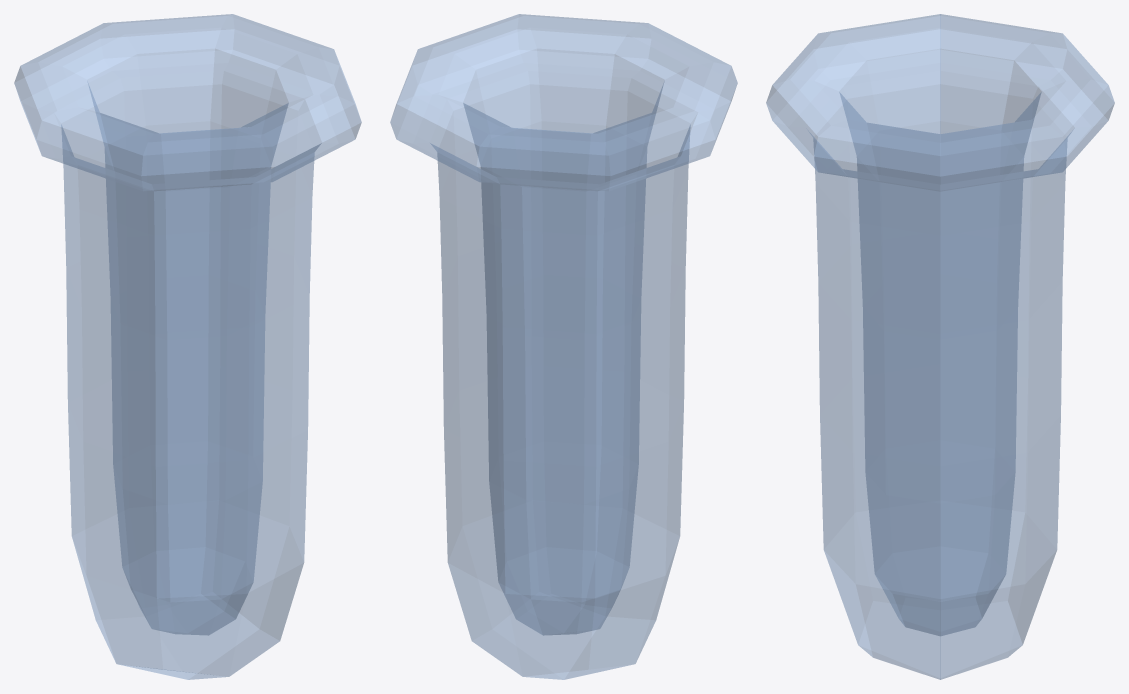
Rendered from Reagenzglas.fbx.
3 renders of one model, left to right at view 1: azimuth 30°, elevation 25°; view 2: azimuth 150°, elevation 25°; view 3: azimuth 270°, elevation 25°, orthographic.
Parts seen in each view (by area): view 1: Reagenzglas; view 2: Reagenzglas; view 3: Reagenzglas.
Part boxes in pixels (box(x1,y1,x2,y2)): Reagenzglas: box(14, 14, 361, 679); Reagenzglas: box(390, 14, 737, 679); Reagenzglas: box(766, 14, 1114, 679).
Bounding box in the file's own units: 0.2026 × 0.3837 × 0.2026.
